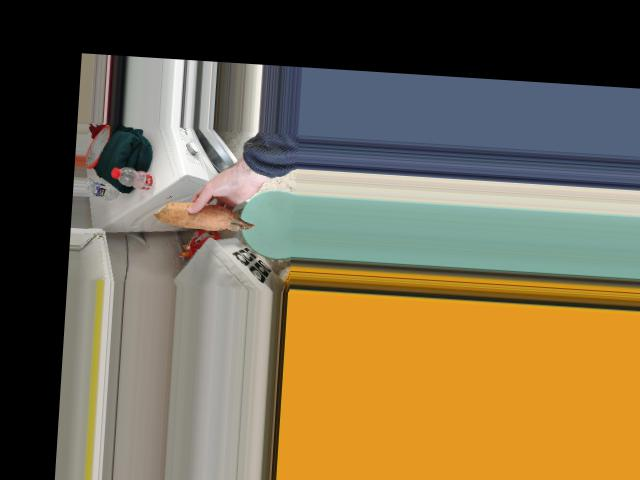sweet_potato: (166, 193, 253, 232)
